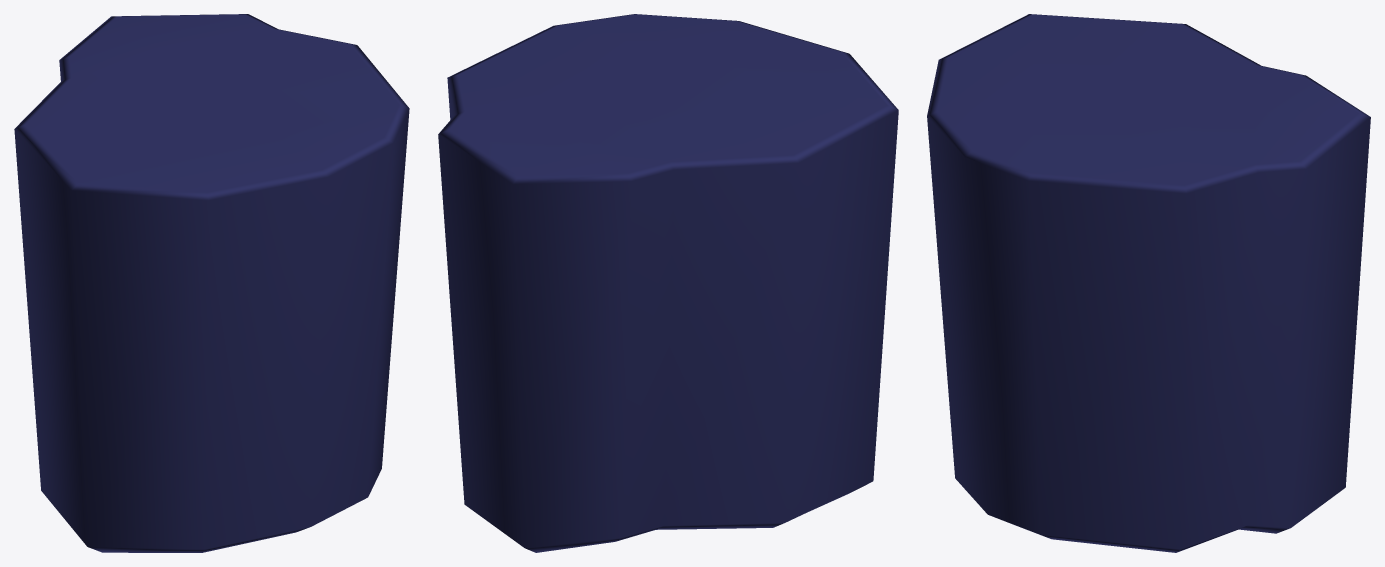
File: platform1_LOD0.fbx
3 views of the same model, side by side, from view 1: azimuth 30°, elevation 25°; view 2: azimuth 150°, elevation 25°; view 3: azimuth 270°, elevation 25° (orthographic). The views are drawn at different scales.
Visible parts, largest first — view 1: platform1; view 2: platform1; view 3: platform1.
Boxes of the visible parts, bbox=[...] form: platform1: bbox=[14, 14, 409, 552]; platform1: bbox=[438, 14, 898, 552]; platform1: bbox=[927, 14, 1370, 552].
Bounding box in the file's own units: 419 × 421 × 437.
